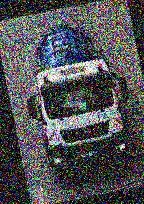truck: (12, 10, 144, 187)
